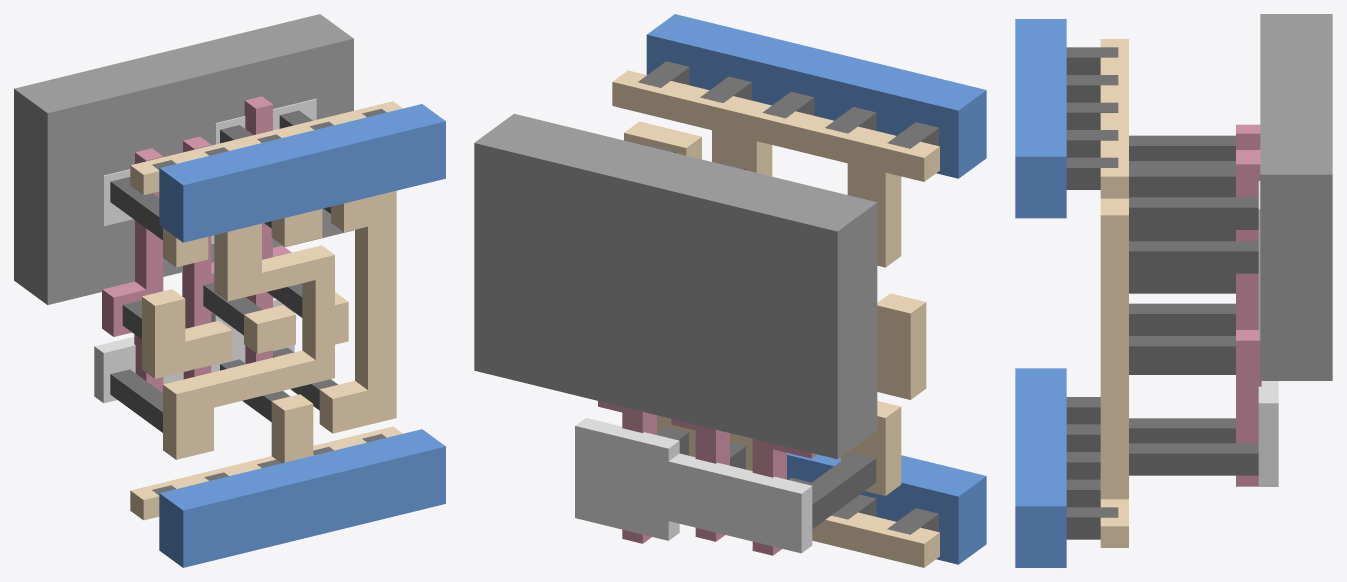
Rendered from sky130_fd_sc_hd__and2_1.gds.gltf.
3 views of the same model, side by side, from view 1: azimuth 30°, elevation 25°; view 2: azimuth 150°, elevation 25°; view 3: azimuth 270°, elevation 25° (orthographic). The views are drawn at different scales.
Parts seen in each view (by area): view 1: sky130_fd_sc_hd__and2_1_li1, sky130_fd_sc_hd__and2_1_met1, sky130_fd_sc_hd__and2_1_nwell, sky130_fd_sc_hd__and2_1_licon, sky130_fd_sc_hd__and2_1_poly, sky130_fd_sc_hd__and2_1_diff, sky130_fd_sc_hd__and2_1_mcon; view 2: sky130_fd_sc_hd__and2_1_nwell, sky130_fd_sc_hd__and2_1_li1, sky130_fd_sc_hd__and2_1_met1, sky130_fd_sc_hd__and2_1_diff, sky130_fd_sc_hd__and2_1_mcon, sky130_fd_sc_hd__and2_1_poly, sky130_fd_sc_hd__and2_1_licon; view 3: sky130_fd_sc_hd__and2_1_licon, sky130_fd_sc_hd__and2_1_nwell, sky130_fd_sc_hd__and2_1_met1, sky130_fd_sc_hd__and2_1_li1, sky130_fd_sc_hd__and2_1_mcon, sky130_fd_sc_hd__and2_1_poly, sky130_fd_sc_hd__and2_1_diff.
Boxes of the visible parts, bbox=[...] form: sky130_fd_sc_hd__and2_1_li1: bbox=[130, 101, 402, 520]; sky130_fd_sc_hd__and2_1_met1: bbox=[159, 104, 445, 567]; sky130_fd_sc_hd__and2_1_nwell: bbox=[14, 14, 353, 304]; sky130_fd_sc_hd__and2_1_licon: bbox=[110, 110, 337, 432]; sky130_fd_sc_hd__and2_1_poly: bbox=[102, 96, 291, 392]; sky130_fd_sc_hd__and2_1_diff: bbox=[94, 98, 316, 403]; sky130_fd_sc_hd__and2_1_mcon: bbox=[152, 108, 386, 494]; sky130_fd_sc_hd__and2_1_nwell: bbox=[474, 113, 877, 459]; sky130_fd_sc_hd__and2_1_li1: bbox=[612, 70, 939, 567]; sky130_fd_sc_hd__and2_1_met1: bbox=[646, 14, 986, 564]; sky130_fd_sc_hd__and2_1_diff: bbox=[575, 418, 812, 553]; sky130_fd_sc_hd__and2_1_mcon: bbox=[638, 61, 938, 534]; sky130_fd_sc_hd__and2_1_poly: bbox=[598, 401, 816, 555]; sky130_fd_sc_hd__and2_1_licon: bbox=[650, 145, 876, 528]; sky130_fd_sc_hd__and2_1_licon: bbox=[1129, 135, 1258, 475]; sky130_fd_sc_hd__and2_1_nwell: bbox=[1260, 14, 1332, 380]; sky130_fd_sc_hd__and2_1_met1: bbox=[1015, 19, 1066, 567]; sky130_fd_sc_hd__and2_1_li1: bbox=[1100, 39, 1128, 547]; sky130_fd_sc_hd__and2_1_mcon: bbox=[1066, 47, 1118, 539]; sky130_fd_sc_hd__and2_1_poly: bbox=[1236, 124, 1261, 486]; sky130_fd_sc_hd__and2_1_diff: bbox=[1258, 181, 1278, 486].
Size of the model in its own units: 2.68 by 3.2 by 2.24.
